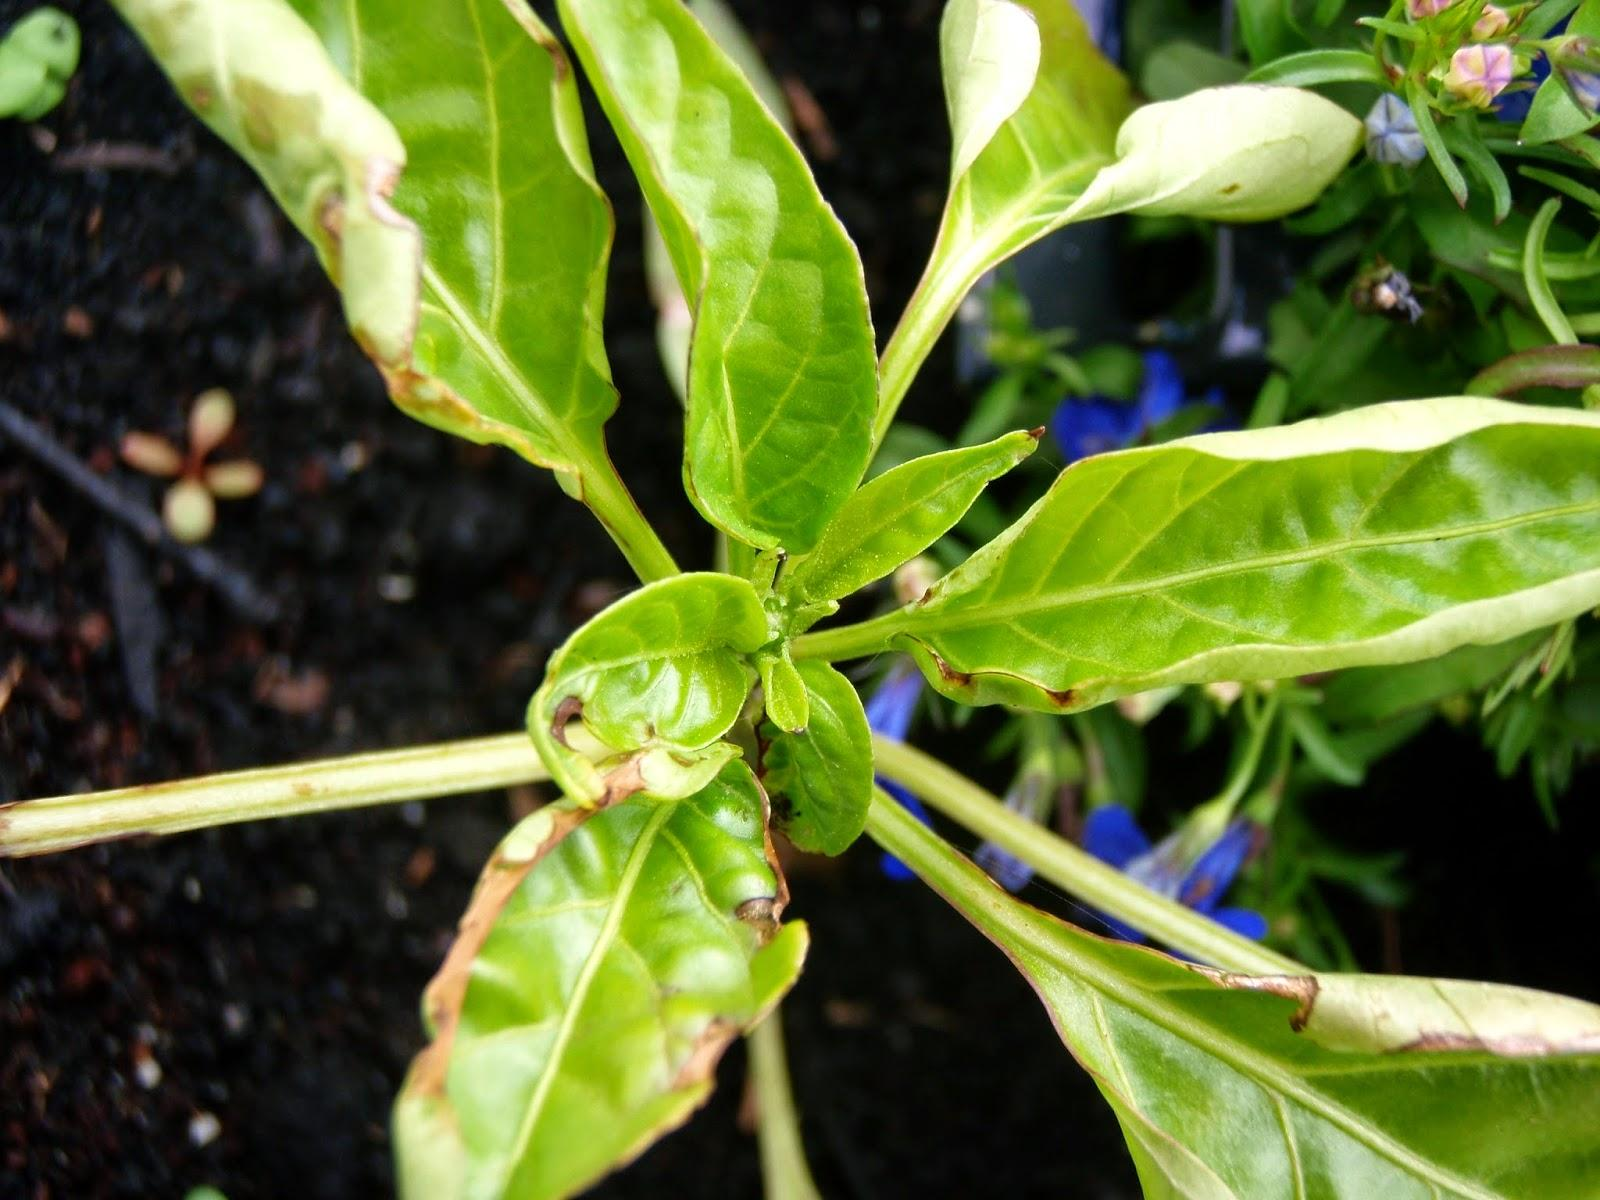Bell_pepper leaf: (105, 1, 619, 505), (917, 400, 1597, 727), (380, 731, 805, 1200), (1038, 887, 1600, 1199), (499, 553, 799, 828)
